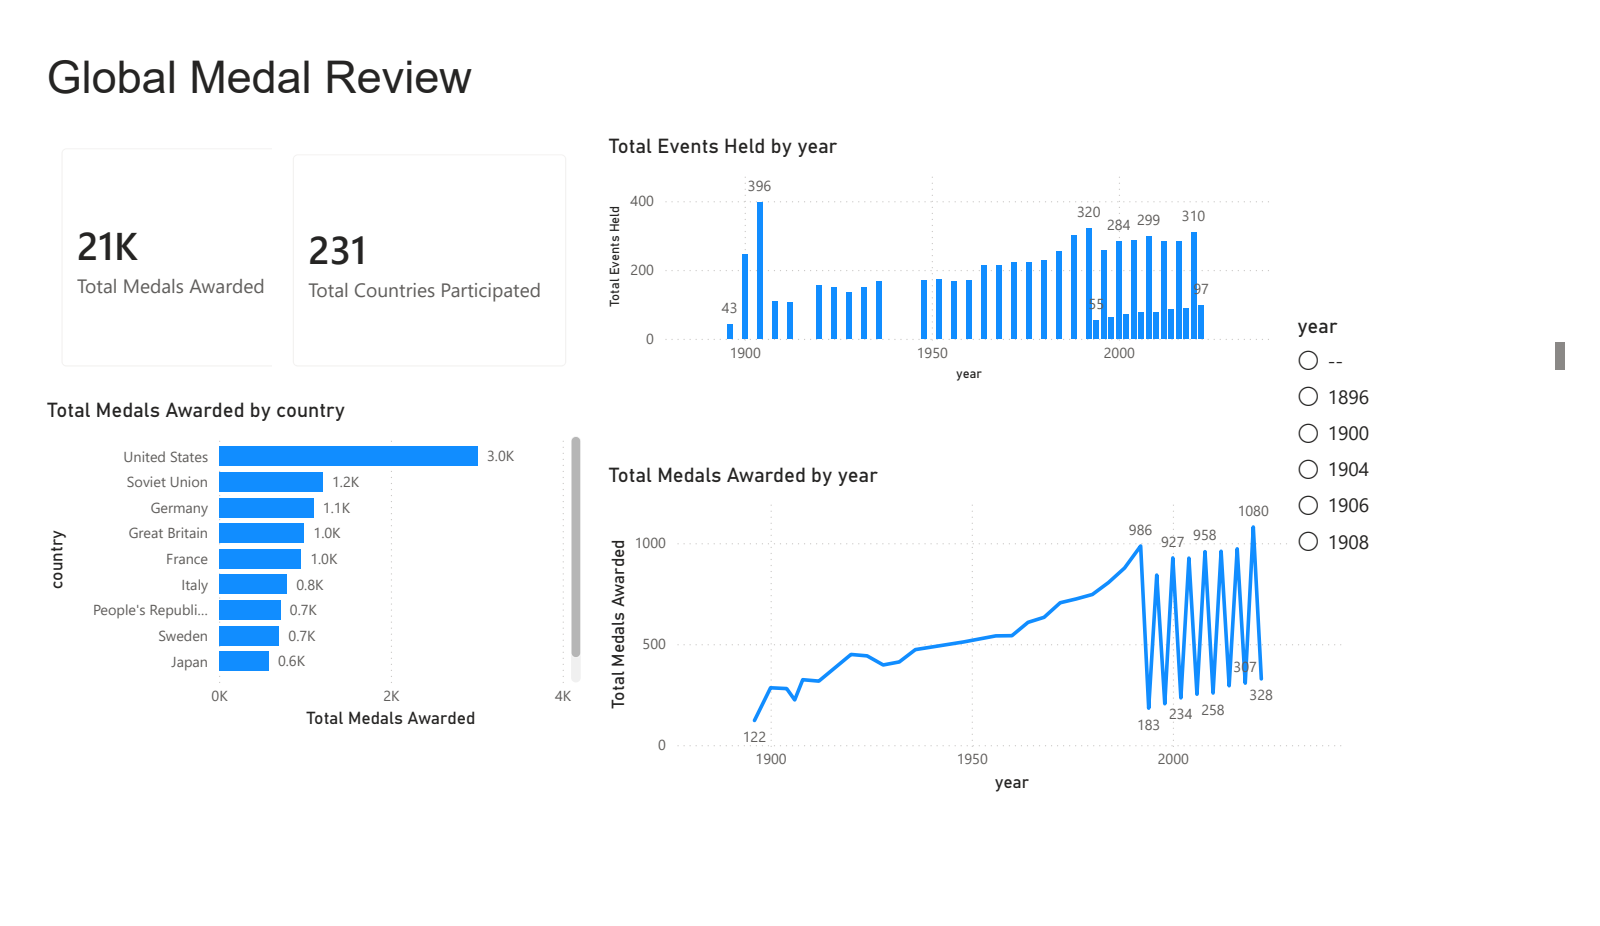

The dashboard page shown, as its layout file describes it:
{"tool":"powerbi","page":{"name":"Global Medal Review","canvas":[1280,720],"ordinal":0},"visuals":[{"type":"textbox","box":[9.6,13.7,1270.7,68.6],"z":0},{"type":"cardVisual","fields":{"Data":["medal_tally.Total Medals Awarded"]},"box":[9.8,81.9,234.8,215.2],"z":1000},{"type":"cardVisual","fields":{"Data":["olympic_athelete_event_result.Total Countries Participated"]},"box":[201.8,86.8,261.7,210.3],"z":2000},{"type":"clusteredBarChart","fields":{"Category":["medal_tally.country"],"Y":["medal_tally.Total Medals Awarded"]},"box":[10,306,453,279],"z":3000},{"type":"lineChart","fields":{"Category":["games.year"],"Y":["medal_tally.Total Medals Awarded"]},"box":[475.7,359.5,624.9,278.8],"z":4000},{"type":"clusteredColumnChart","fields":{"Category":["games.year"],"Y":["olympic_results.Total Events Held"]},"box":[475.7,86.8,572.3,210.3],"z":5000},{"type":"listSlicer","fields":{"Values":["games.year"]},"box":[1048,236,232.3,210.3],"z":6000}]}

Visuals, with their boxes in screenshot pixels (x1, y1, x2, y2), scaled from the page's 1280x720 canvas onto the 1600x926 screenshot:
textbox: (left=12, top=18, right=1599, bottom=106)
cardVisual - medal_tally.Total Medals Awarded: (left=12, top=105, right=306, bottom=382)
cardVisual - olympic_athelete_event_result.Total Countries Participated: (left=252, top=112, right=579, bottom=382)
clusteredBarChart - medal_tally.country x medal_tally.Total Medals Awarded: (left=12, top=394, right=579, bottom=752)
lineChart - games.year x medal_tally.Total Medals Awarded: (left=595, top=462, right=1376, bottom=821)
clusteredColumnChart - games.year x olympic_results.Total Events Held: (left=595, top=112, right=1310, bottom=382)
listSlicer - games.year: (left=1310, top=304, right=1599, bottom=574)
